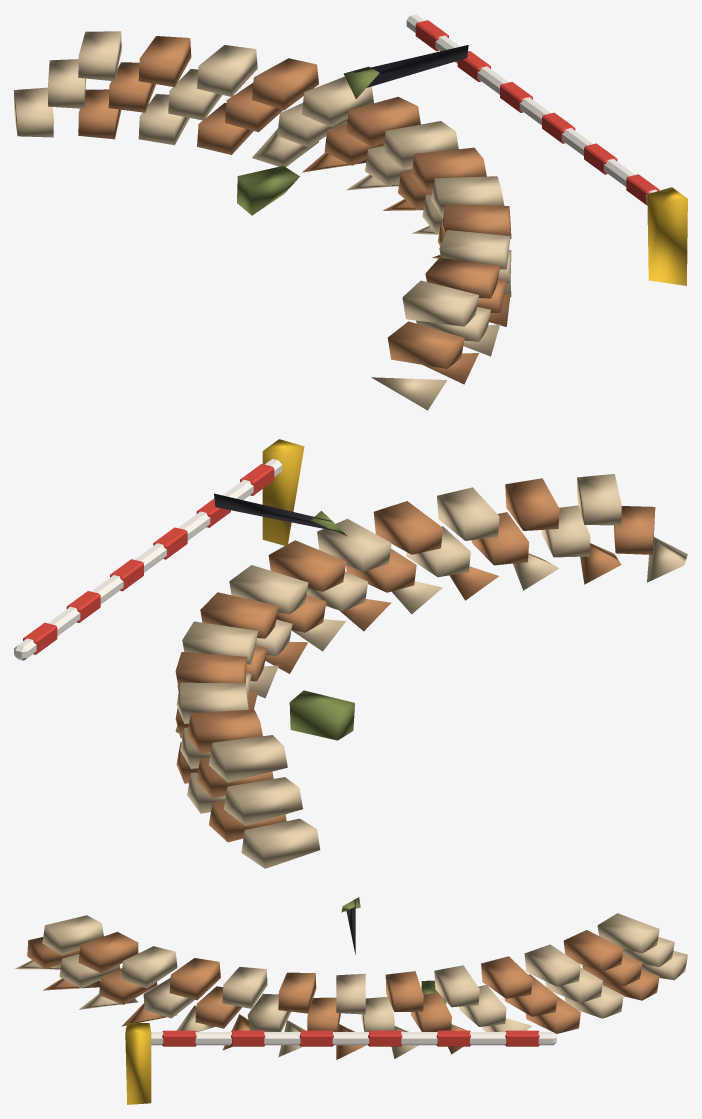
The model's file is sandbags.glb.
3 views of the same model, one above another, from view 1: azimuth 30°, elevation 25°; view 2: azimuth 150°, elevation 25°; view 3: azimuth 270°, elevation 25° (orthographic). The views are drawn at different scales.
Visible parts, largest first — view 1: sandbags; view 2: sandbags; view 3: sandbags.
Part boxes in pixels (left/top/right/bottom): sandbags: left=14, top=14, right=687, bottom=410; sandbags: left=14, top=439, right=687, bottom=868; sandbags: left=15, top=897, right=687, bottom=1104.
Size of the model in its own units: 4.87 by 2.08 by 9.83.
Materials: 1 (1 with a texture image).
